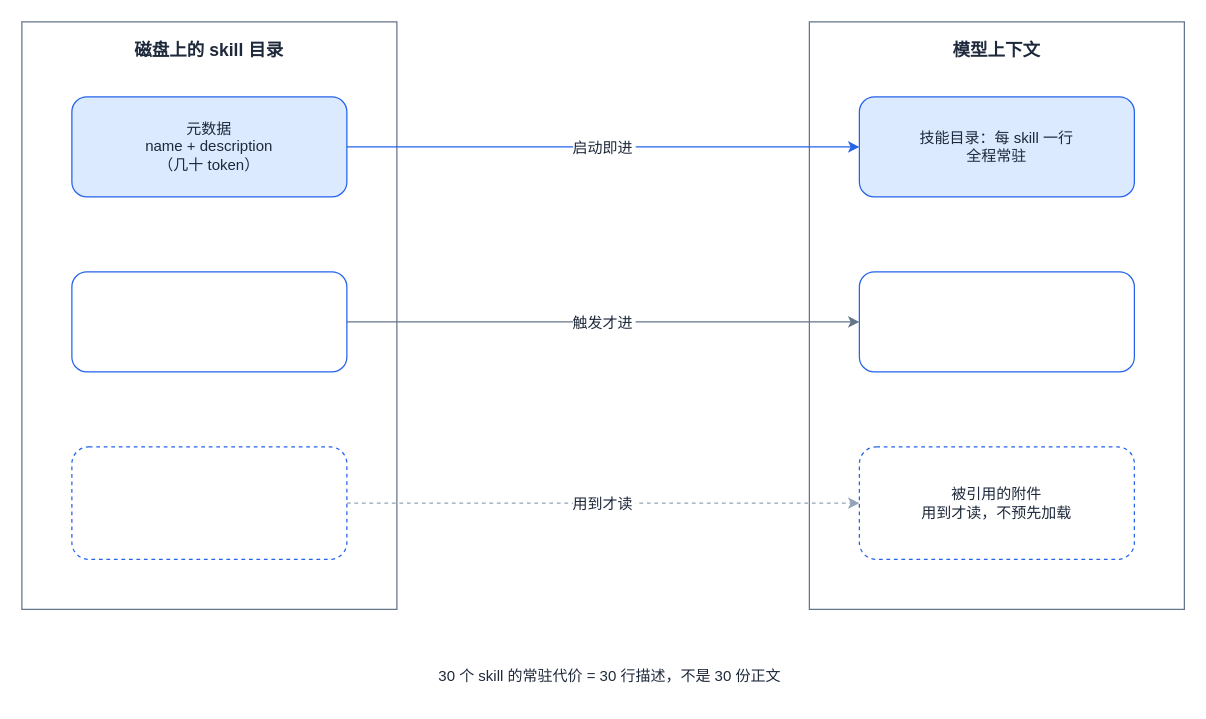
Some shapes in this 1206 by 719 pixel diagram are drawn without their labels. The centre of each missing label's shape, as x and y in pixels:
"references/ 与 scripts/ 详细资料与脚本 （不预装，随用随读）" belongs at [209,502].
"SKILL.md 正文 操作指引 （一两千 token）" belongs at [209,321].
"被点名的正文 触发时进，会话里通常两三份" belongs at [996,321].
